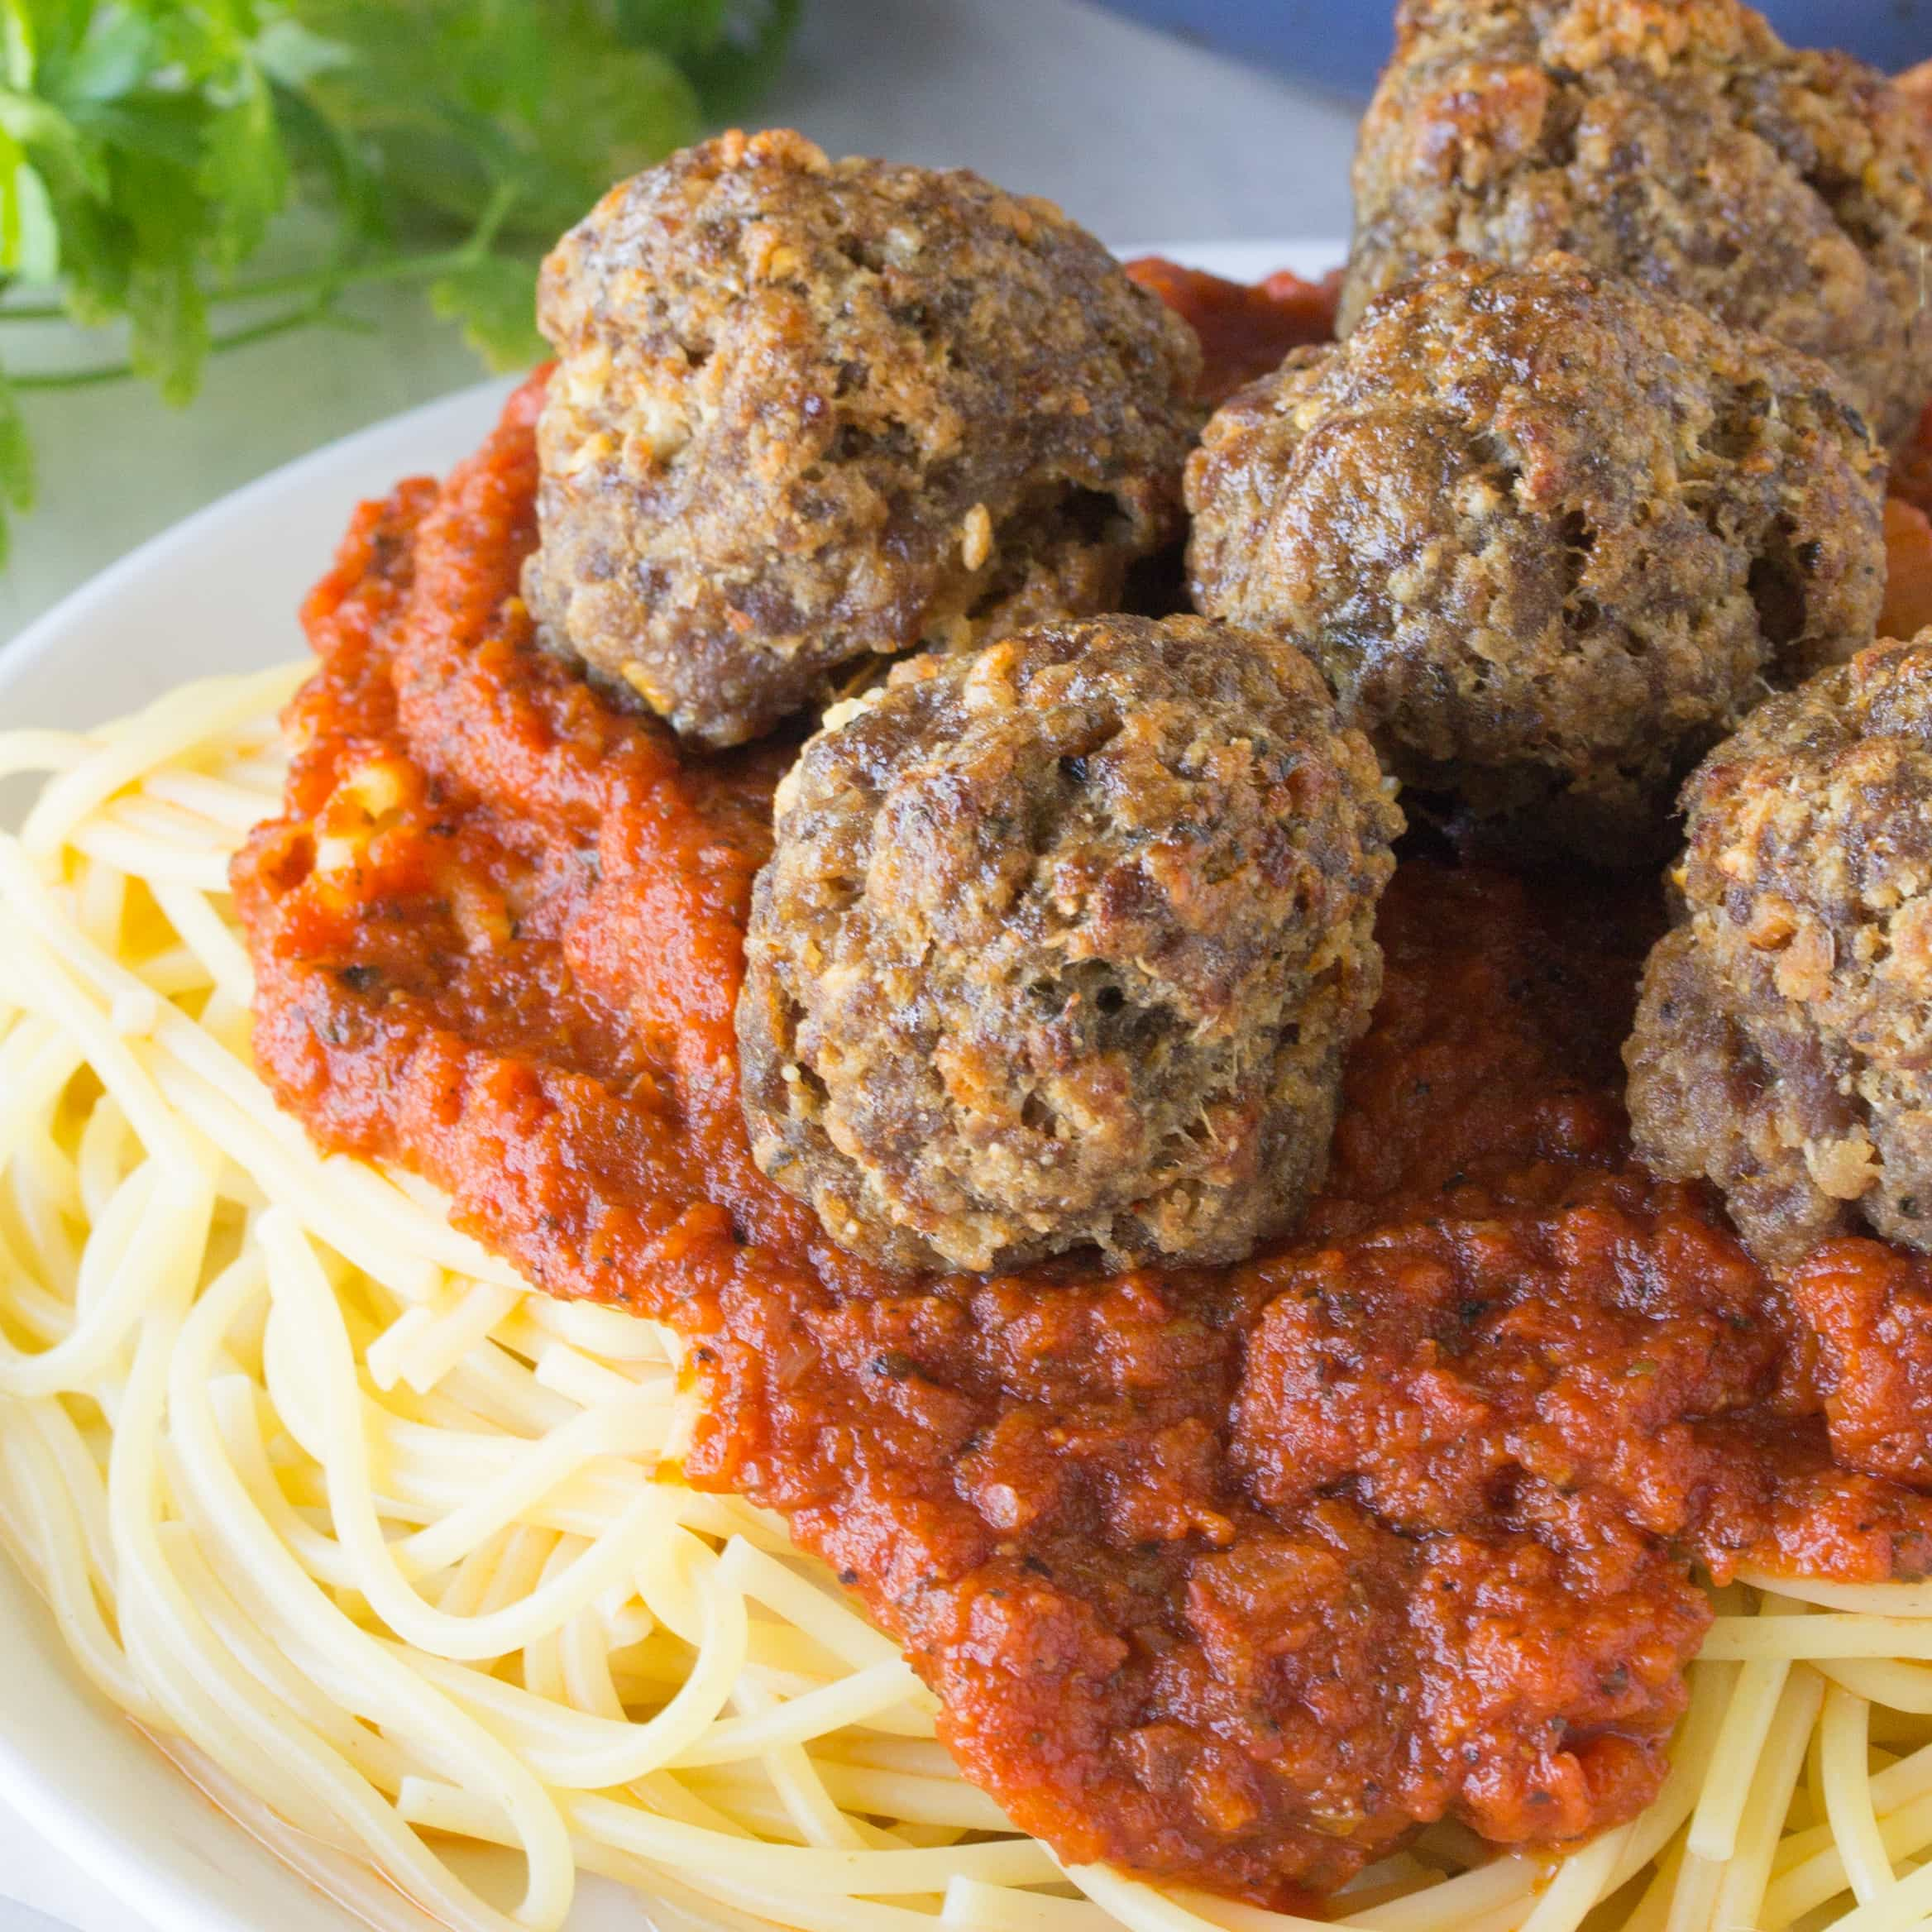meatballs: (761, 630, 1361, 1247), (545, 166, 1162, 683), (1215, 320, 1799, 750), (1375, 7, 1932, 341), (1674, 704, 1932, 1192)
plain spaghetti: (9, 743, 853, 1932), (547, 1458, 1932, 1928)
